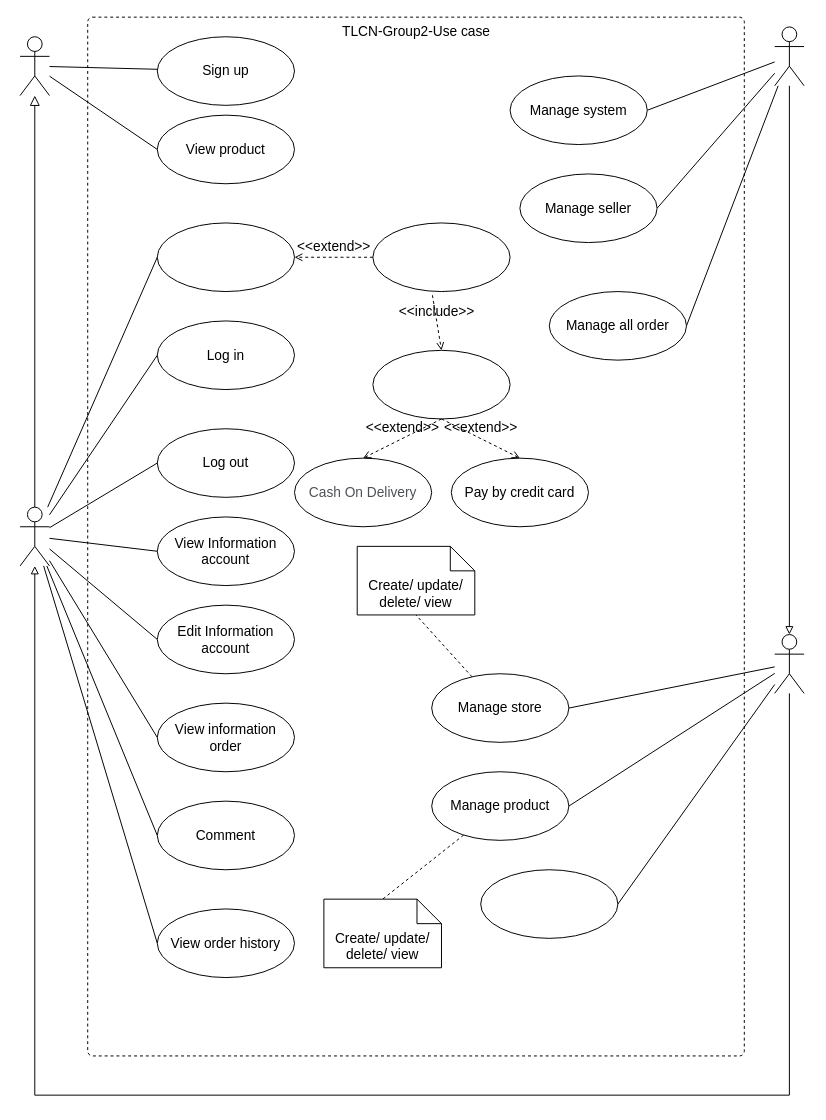
The diagram is 826 pixels wide and 1120 high, and some of its shapes have lost their labels. Each missing label, with the centre of its shape:
"Add product to cart" belongs at point (225, 257).
"Admin" belongs at point (789, 56).
"Feedback comment" belongs at point (549, 903).
"Guest" belongs at point (34, 66).
"Order" belongs at point (441, 257).
"Pay" belongs at point (441, 384).
"Seller" belongs at point (789, 663).
"User" belongs at point (34, 536).
